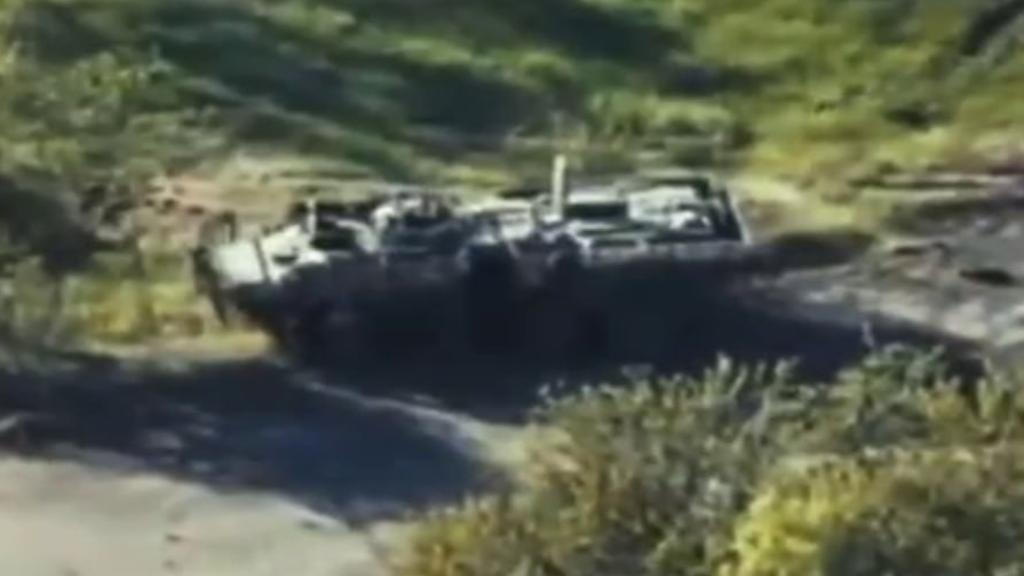APC-IFV: (188, 145, 758, 384)
